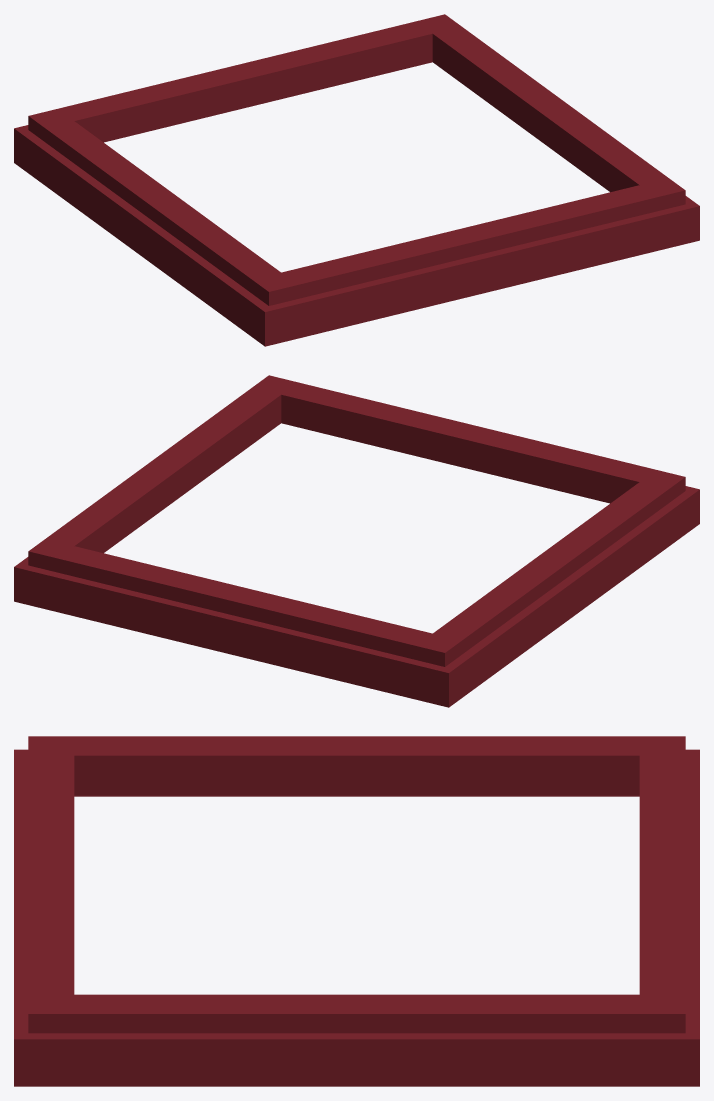
The model's file is BRoofInnerLedgeCorner_B.fbx.
3 renders of one model, top to bottom at view 1: azimuth 30°, elevation 25°; view 2: azimuth 150°, elevation 25°; view 3: azimuth 270°, elevation 25°, orthographic. The views are drawn at different scales.
Visible parts, largest first — view 1: BRoofInnerLedgeCorner_B; view 2: BRoofInnerLedgeCorner_B; view 3: BRoofInnerLedgeCorner_B.
Part boxes in pixels (x1,y1,x2,y2): BRoofInnerLedgeCorner_B: [14, 14, 699, 346]; BRoofInnerLedgeCorner_B: [14, 375, 699, 707]; BRoofInnerLedgeCorner_B: [14, 736, 699, 1086].
Bounding box in the file's own units: 971 × 104 × 971.
